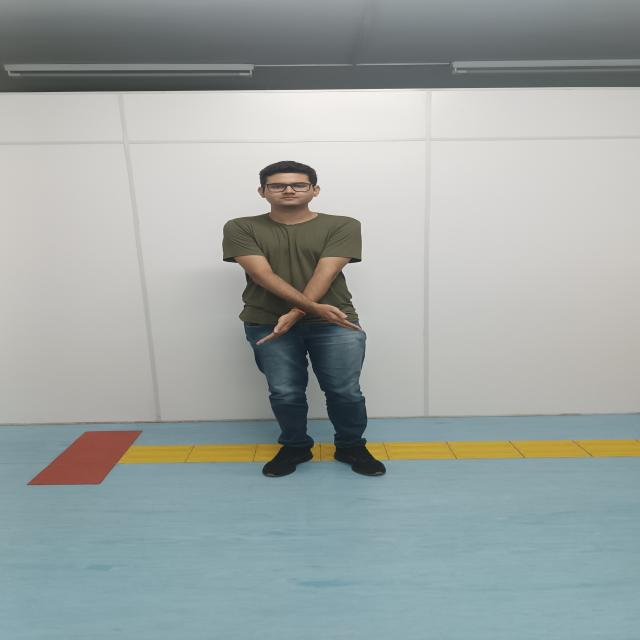land: (224, 161, 386, 478)
